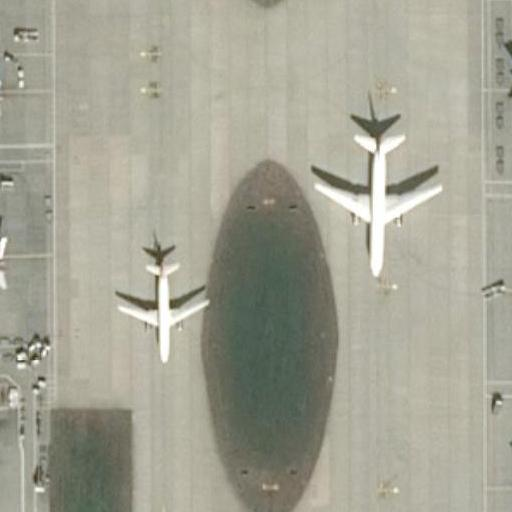Aircraft: (304, 123, 443, 278), (116, 256, 210, 360), (503, 12, 512, 175), (0, 192, 11, 324), (510, 406, 512, 512), (0, 51, 2, 138), (0, 0, 4, 22)
